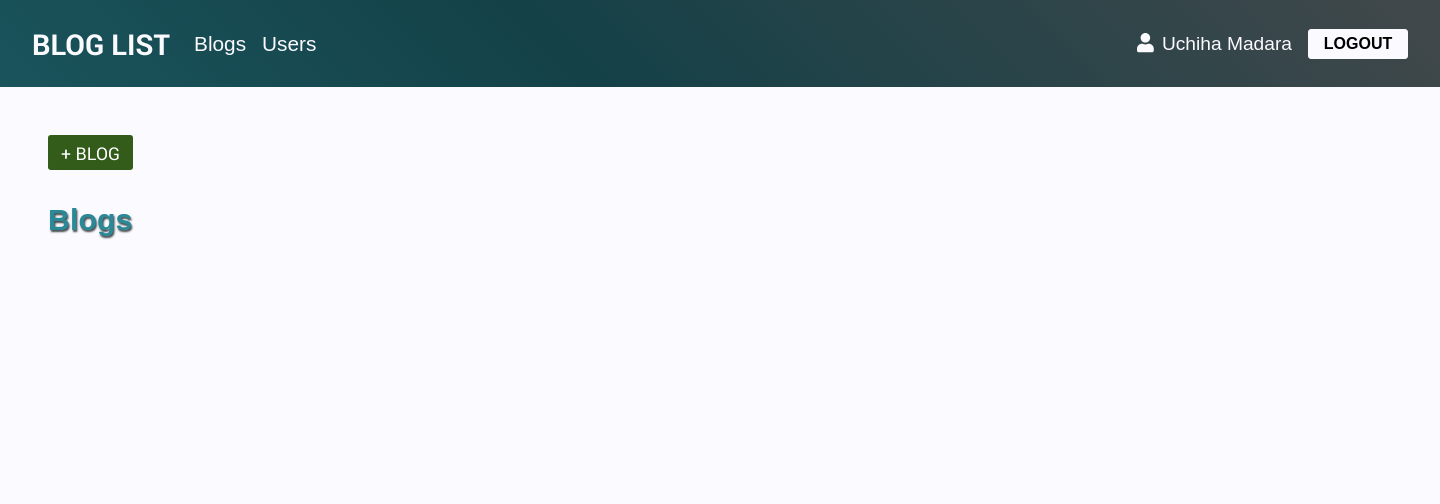
<App /> › When user is logged in › a form for new blogs can be toggled with buttons
Click the button "+ Blog": (90, 152) [48,135,133,170]
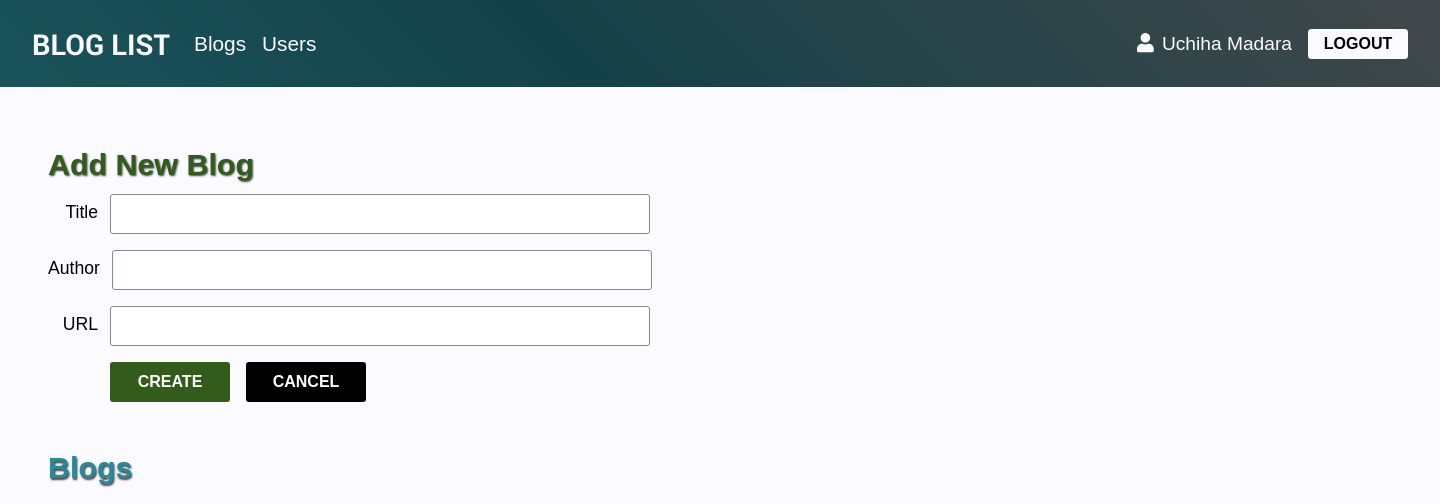
Now the form is shown, box [48,147,652,402]
Click the button "Cancel": (306, 382) [246,362,366,402]
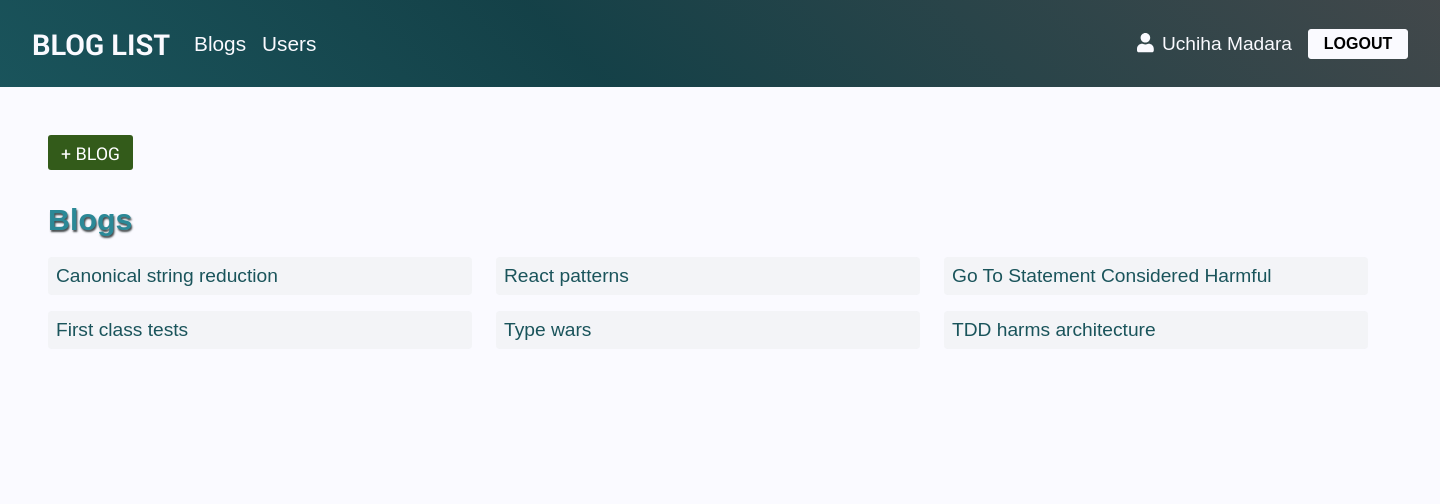
Now the form is gone
